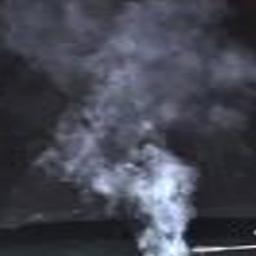smoke: (7, 0, 255, 255)
